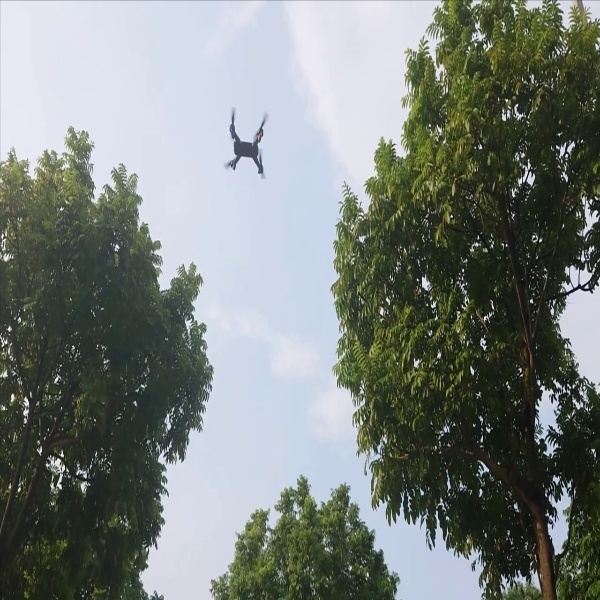drone: (219, 97, 280, 184)
